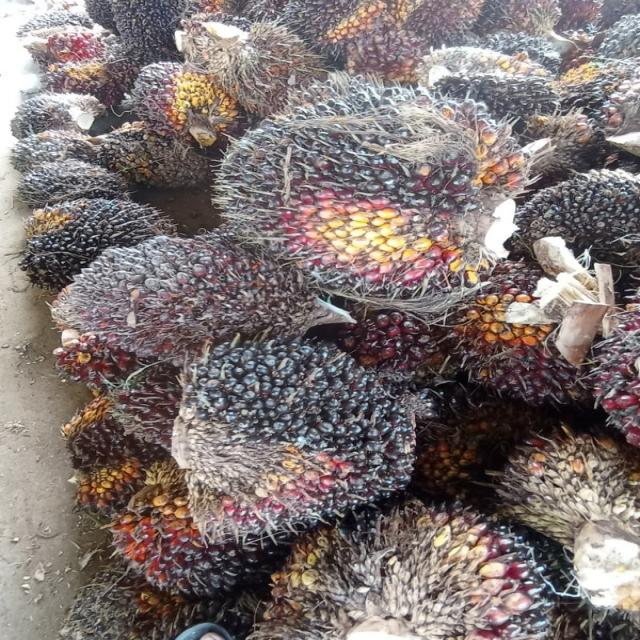fraksi 00: (209, 94, 527, 299), (157, 345, 421, 533), (15, 196, 186, 279), (17, 155, 126, 214)
fraksi 1: (43, 239, 326, 360)
